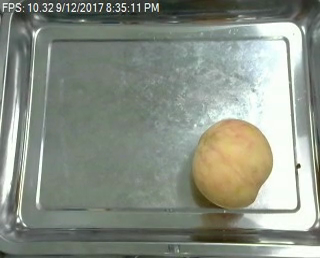Peach: (191, 117, 273, 208)
